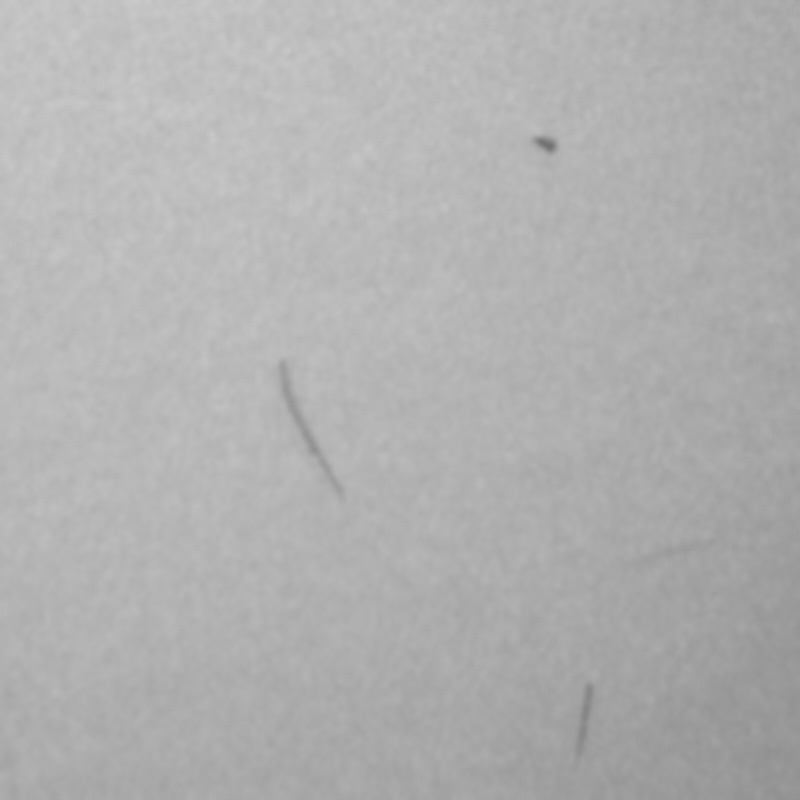defect: (270, 353, 354, 512), (568, 679, 600, 769), (528, 125, 565, 158)
